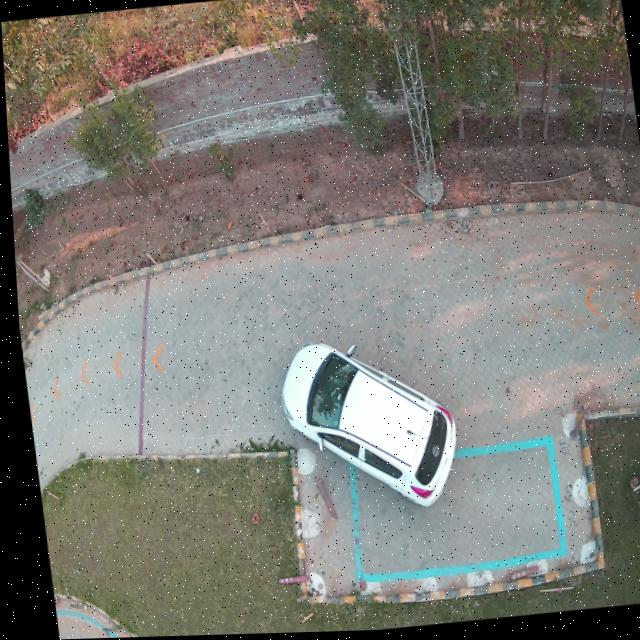car: (276, 344, 451, 509)
